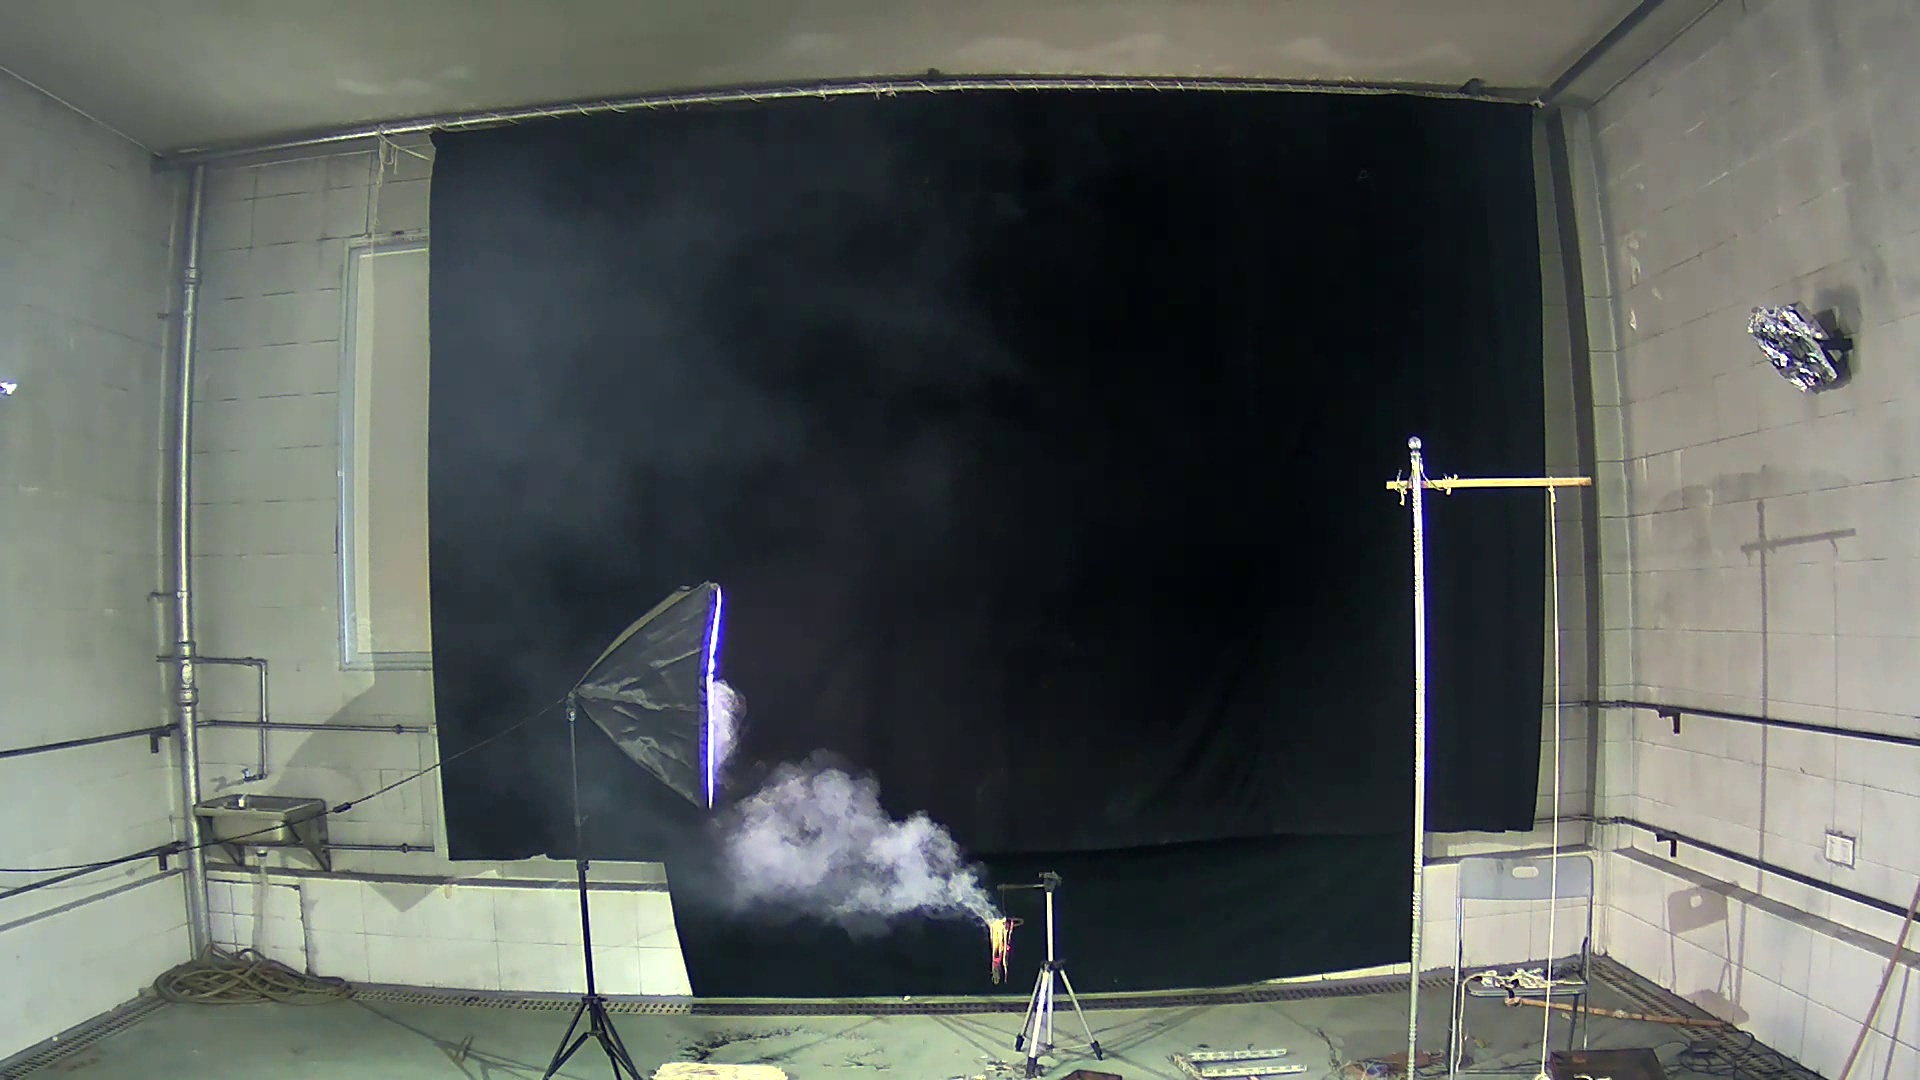smoke: (705, 757, 1006, 934)
